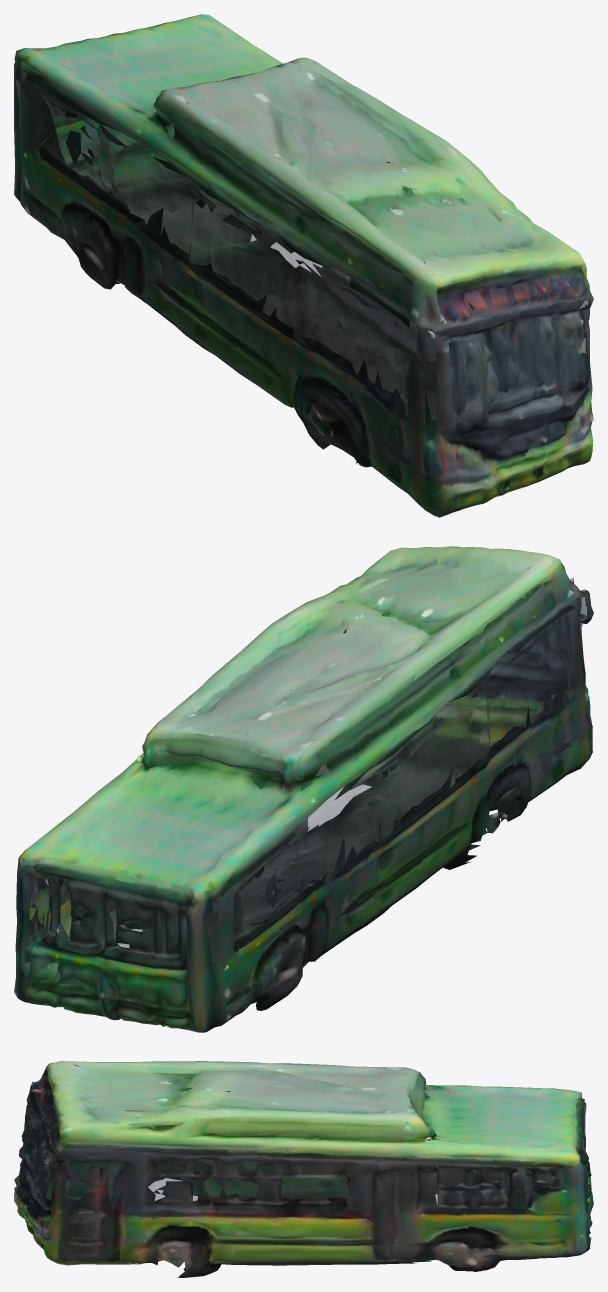
File: bus_green.glb
3 views of the same model, one above another, from view 1: azimuth 30°, elevation 25°; view 2: azimuth 150°, elevation 25°; view 3: azimuth 270°, elevation 25° (orthographic). The views are drawn at different scales.
Visible parts, largest first — view 1: bus_green, glass; view 2: bus_green, glass; view 3: bus_green, glass.
Part boxes in pixels (left/top/right/bottom): bus_green: left=14, top=14, right=593, bottom=517; glass: left=15, top=70, right=589, bottom=424; bus_green: left=14, top=546, right=593, bottom=1032; glass: left=30, top=597, right=592, bottom=962; bus_green: left=14, top=1061, right=593, bottom=1277; glass: left=29, top=1085, right=583, bottom=1209.
Size of the model in its own units: 2.6 by 3.1 by 9.59.
Materials: 2 (1 with a texture image).
